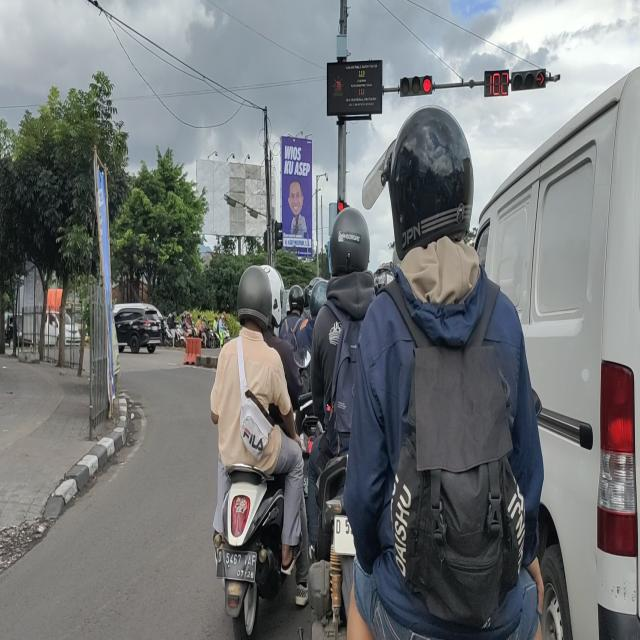helmet: (386, 102, 475, 255), (330, 206, 370, 276), (238, 265, 273, 327), (261, 261, 285, 326), (290, 284, 303, 314)
